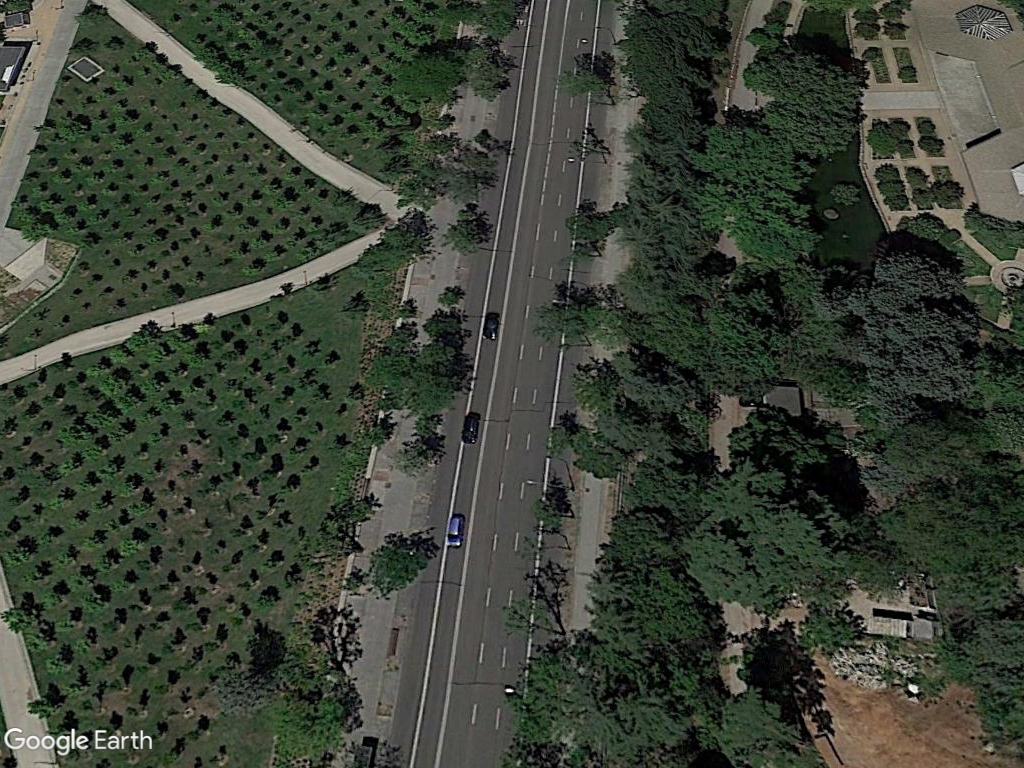car: (446, 510, 467, 553), (460, 407, 482, 447), (481, 308, 503, 344)
